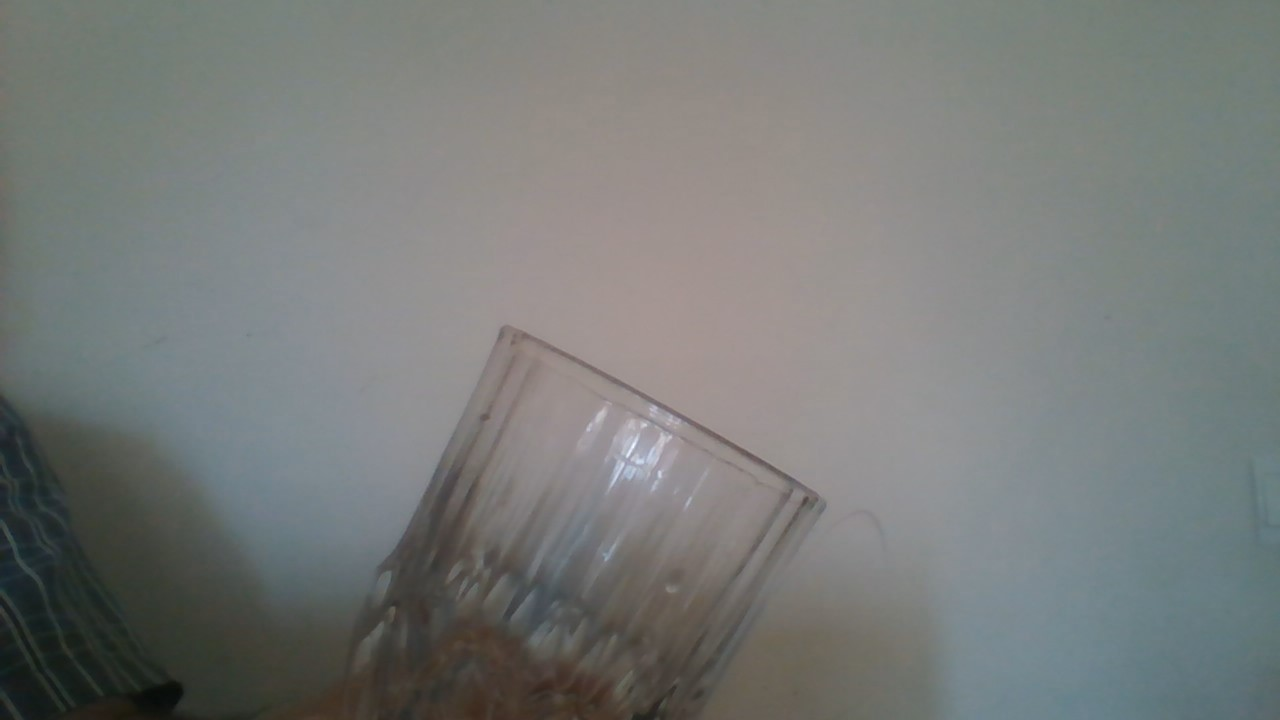glass: (336, 321, 837, 717)
